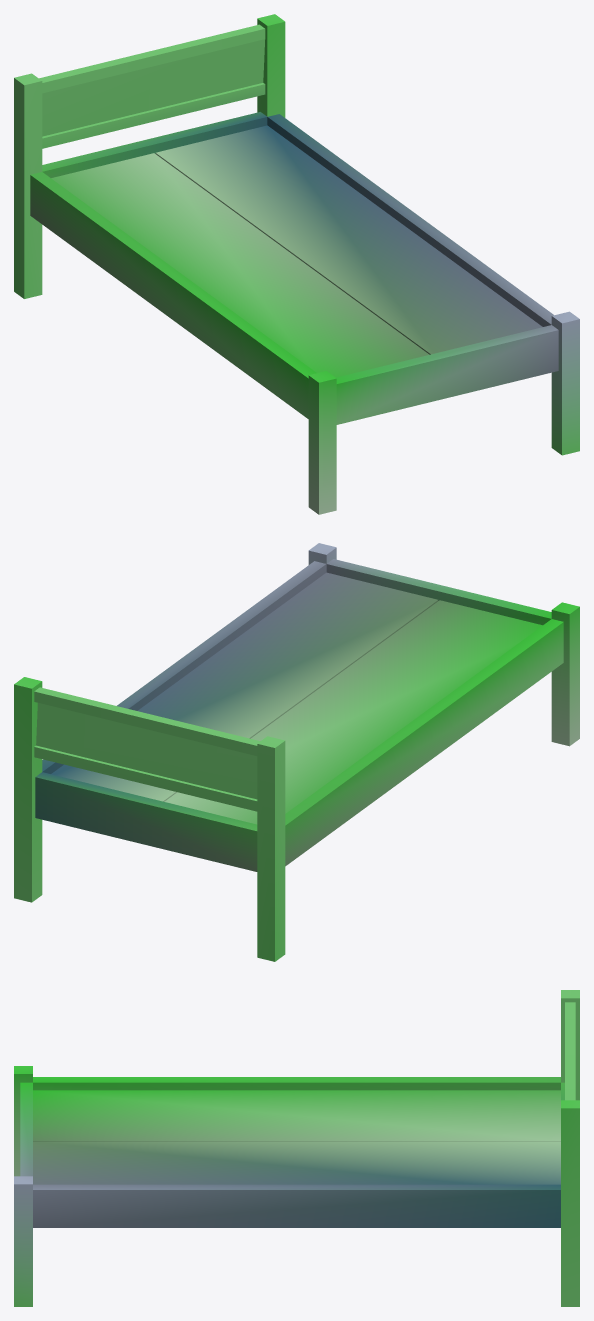
The model's file is Bed.fbx.
3 views of the same model, one above another, from view 1: azimuth 30°, elevation 25°; view 2: azimuth 150°, elevation 25°; view 3: azimuth 270°, elevation 25° (orthographic). The views are drawn at different scales.
Parts seen in each view (by area): view 1: Bed; view 2: Bed; view 3: Bed.
Boxes of the visible parts, <box> form: Bed: <box>14,14,579,514</box>; Bed: <box>14,543,579,961</box>; Bed: <box>14,990,579,1306</box>.
Size of the model in its own units: 1.17 by 0.9144 by 2.36.
